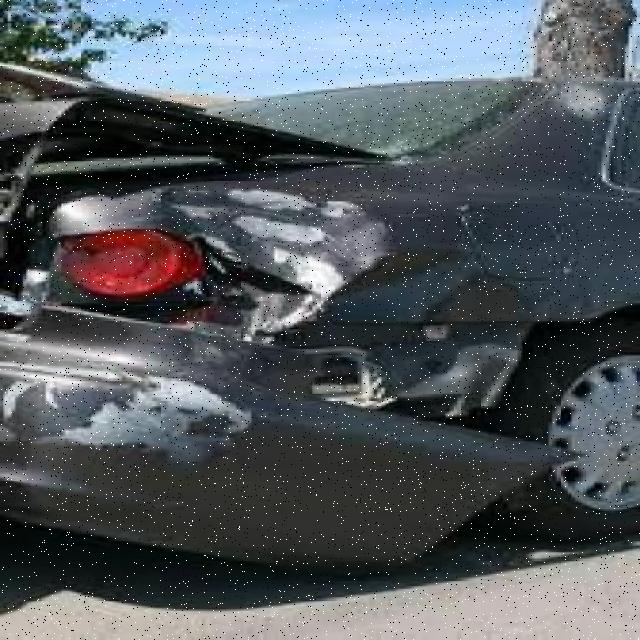damage: (0, 71, 586, 572)
